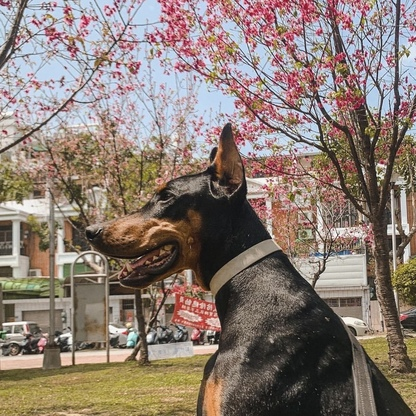doberman: (83, 121, 415, 416)
